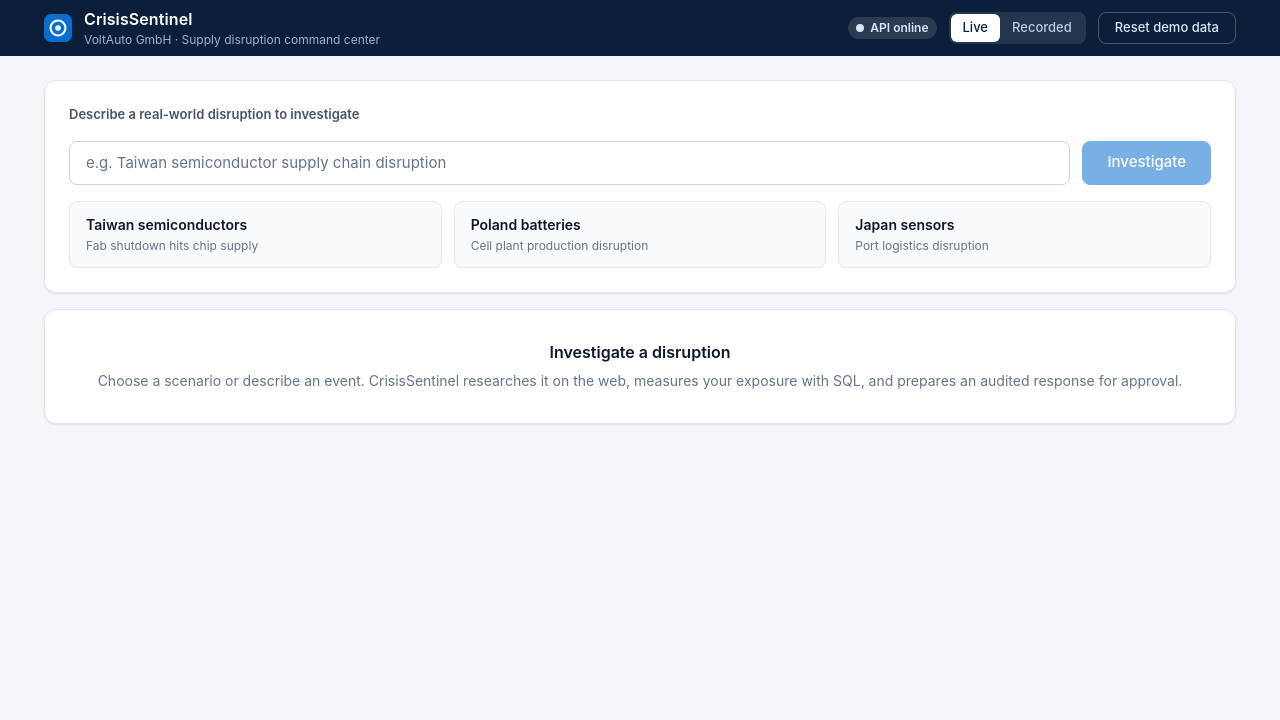
it: CrisisSentinel UI › renders the Poland recording and lists evidence tabs with source links
Click the button "Recorded".
click(1042, 28)  # box [1000,14,1084,42]
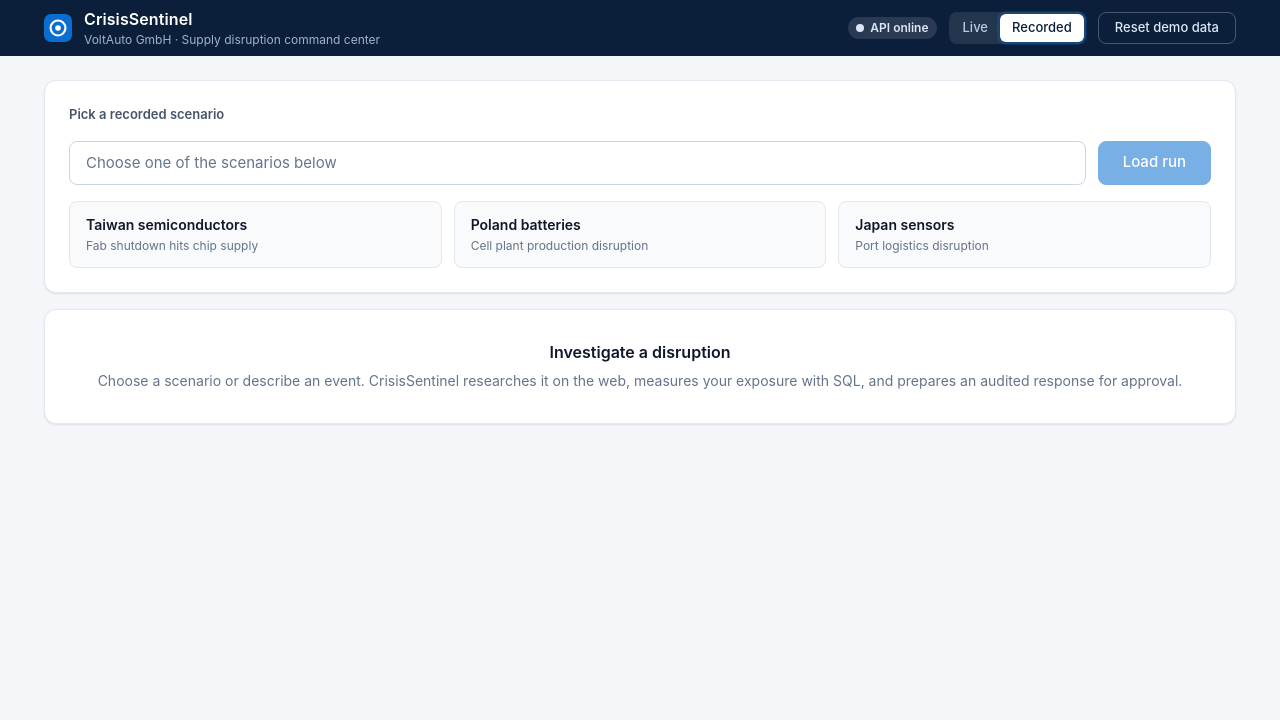
Click the button "Poland batteries Cell plant production disruption".
click(526, 224)  # box [454,200,826,268]
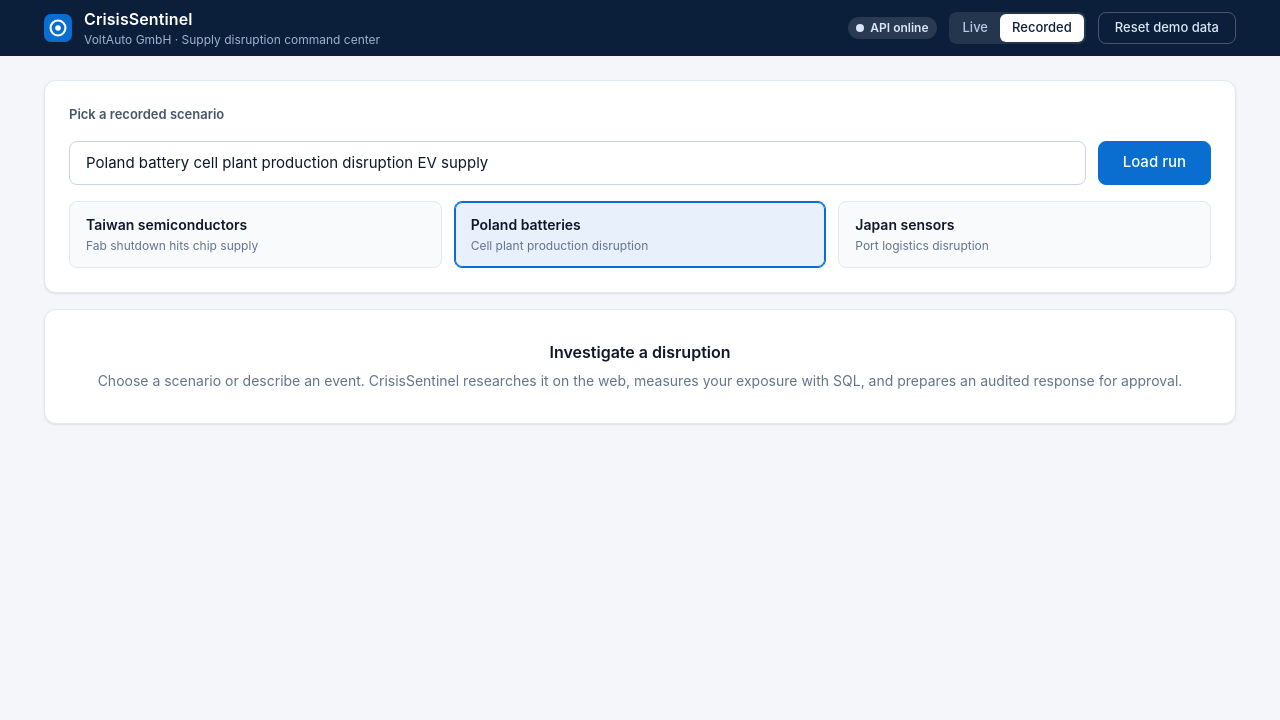
Click the button "Load run".
click(1154, 162)  # box [1098,140,1211,184]
(page scrolled)
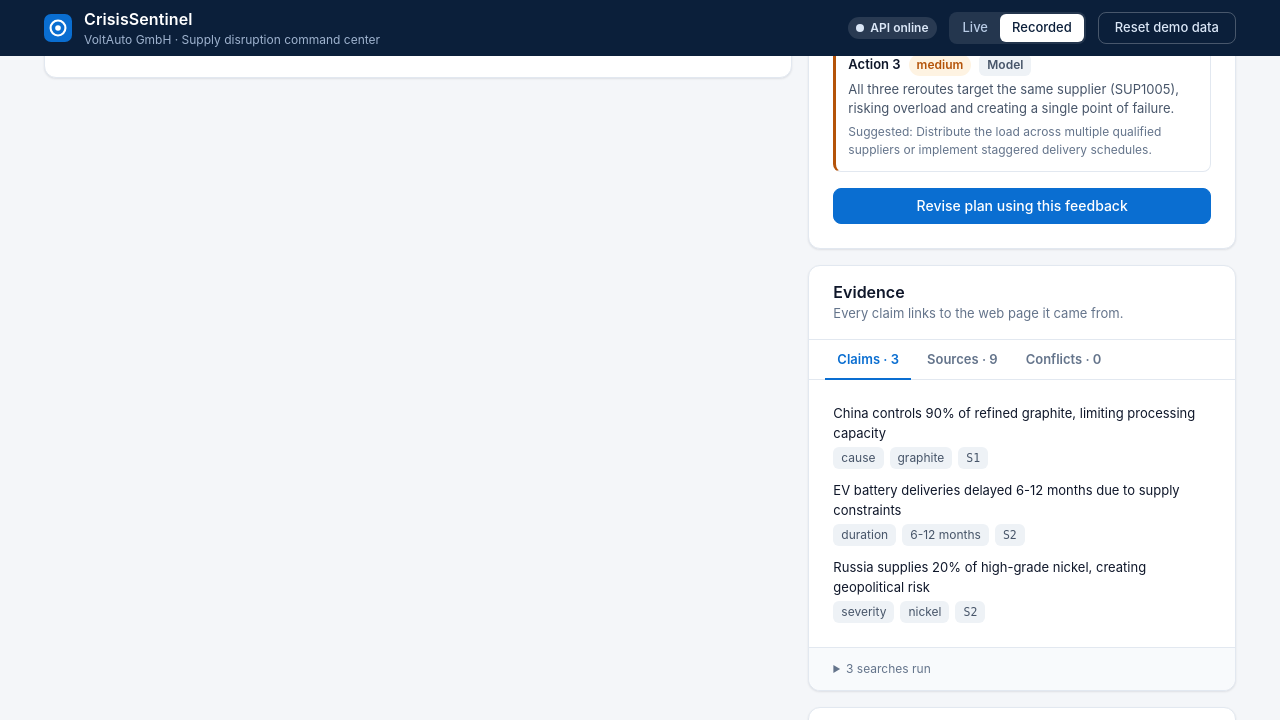
Now the heading "Evidence" is shown, box [833,282,905,302]
Click the tab "Sources · 9".
click(962, 360)  # box [915,340,1010,380]
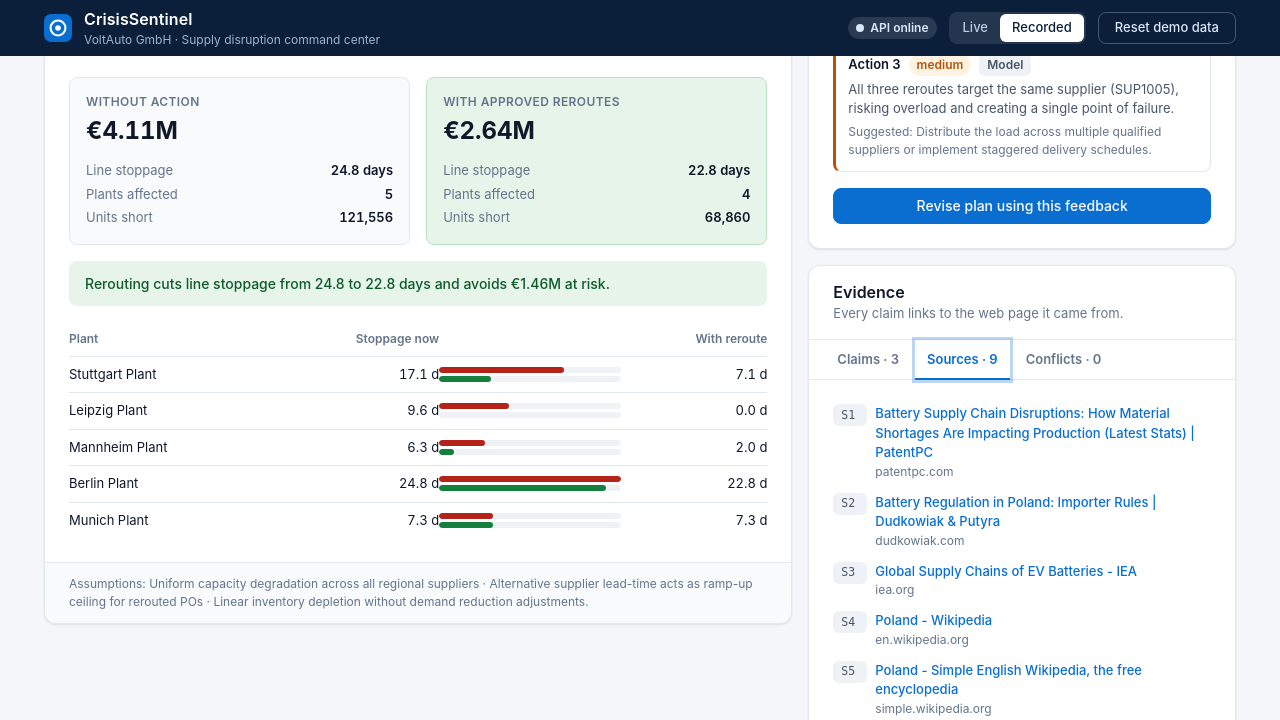
Now the 1st link is shown, box [875,405,1195,460]
